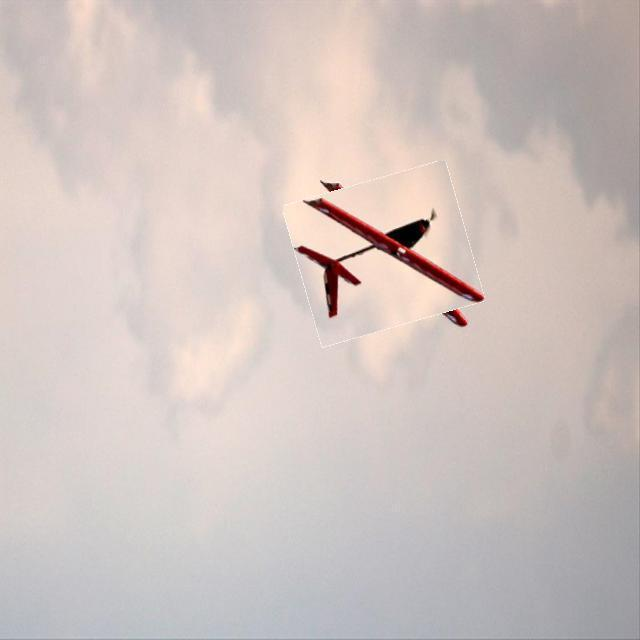UAV: (276, 152, 496, 350)
